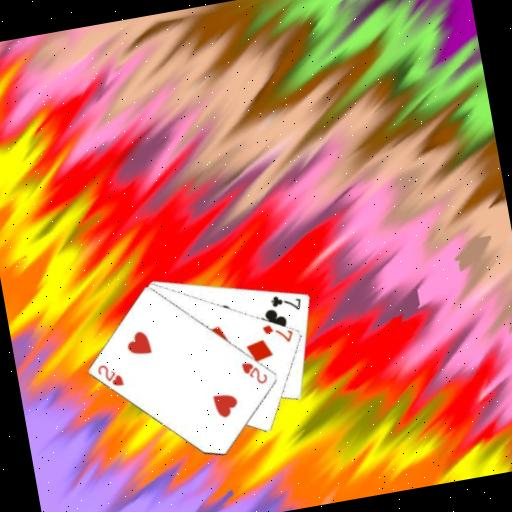2H: (93, 358, 126, 391), (238, 356, 270, 389)
7C: (267, 288, 304, 316)
7D: (258, 317, 295, 347)
